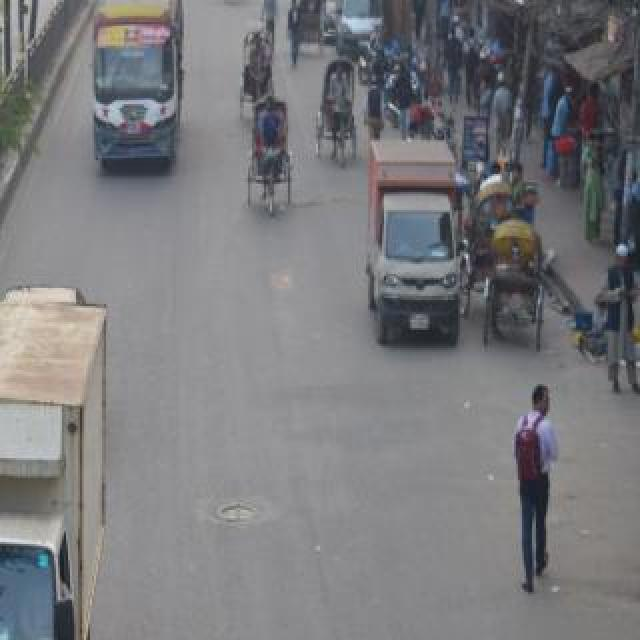bus: (77, 0, 203, 224)
car: (329, 0, 397, 64), (309, 0, 345, 64)
motorbike: (371, 46, 435, 124), (411, 89, 469, 165), (345, 28, 415, 90)
truck: (0, 242, 142, 640)
van: (364, 122, 492, 380)
